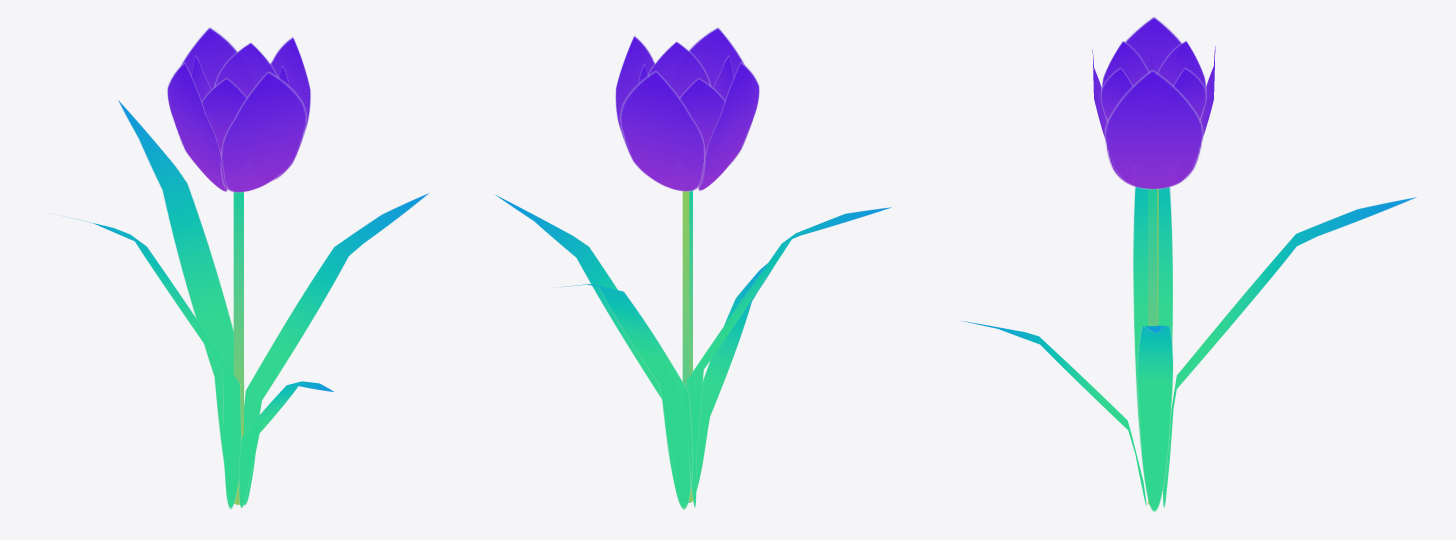
Rendered from Flowers_n02_20.glb.
3 views of the same model, side by side, from view 1: azimuth 30°, elevation 25°; view 2: azimuth 150°, elevation 25°; view 3: azimuth 270°, elevation 25° (orthographic).
Parts seen in each view (by area): view 1: polySurface304; view 2: polySurface304; view 3: polySurface304.
Part boxes in pixels (left/top/right/bottom): polySurface304: left=55, top=27, right=429, bottom=509; polySurface304: left=494, top=27, right=892, bottom=509; polySurface304: left=959, top=16, right=1416, bottom=511.
Size of the model in its own units: 0.3979 by 0.4163 by 0.3883.
Materials: 1 (1 with a texture image).
